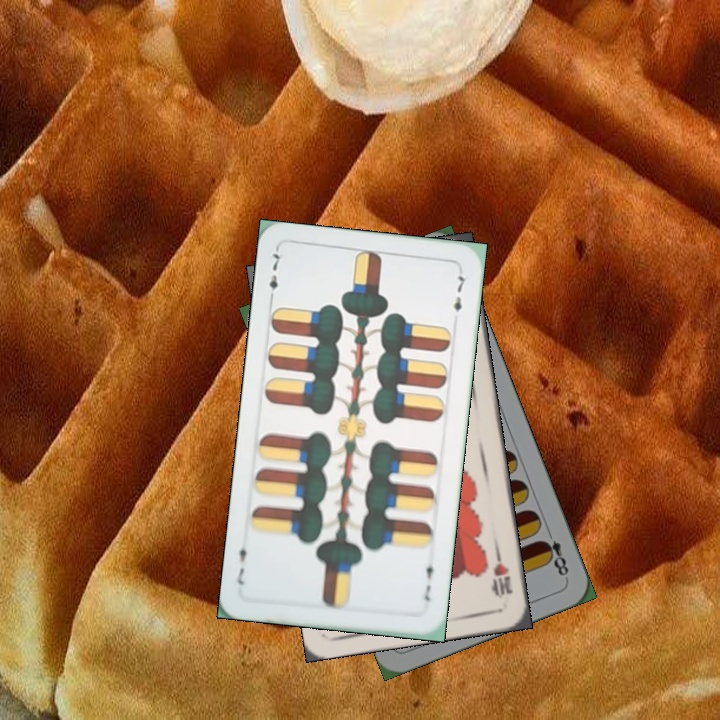E7: (265, 246, 285, 305), (420, 555, 437, 604)
E8: (537, 525, 571, 579)
H10: (489, 546, 515, 601)
